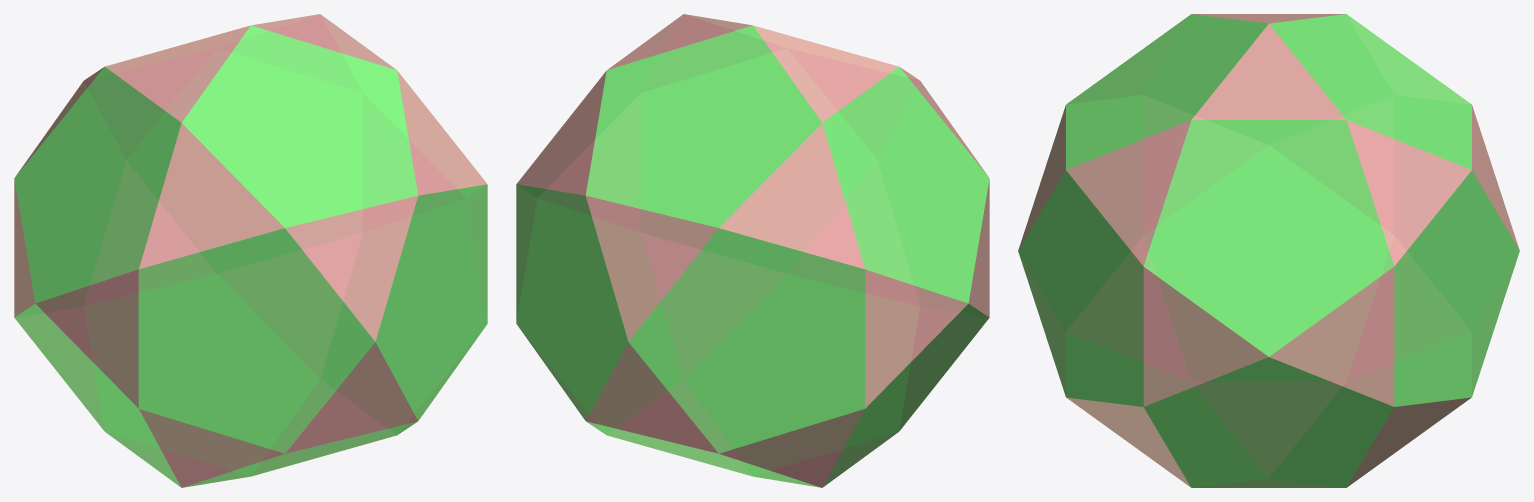
The model's file is Icosidodecahedron.obj.
3 renders of one model, left to right at view 1: azimuth 30°, elevation 25°; view 2: azimuth 150°, elevation 25°; view 3: azimuth 270°, elevation 25°, orthographic.
Bounding box in the file's own units: 3.24 × 3.24 × 3.24.
